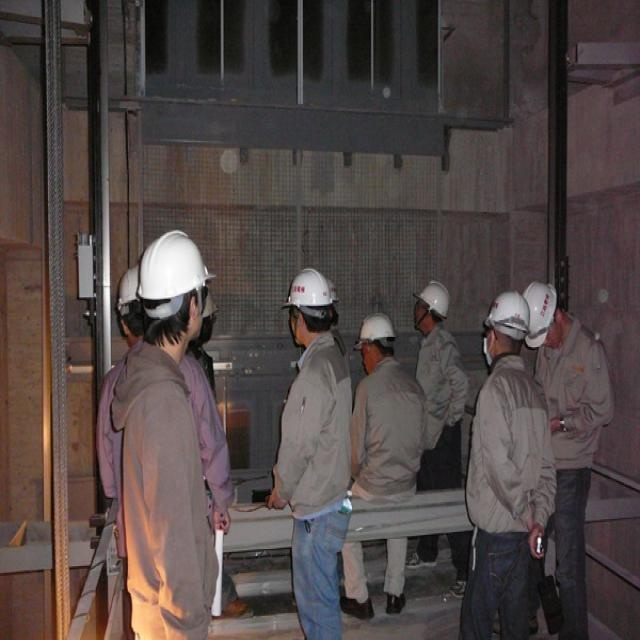Con_Casco: (138, 232, 207, 336), (286, 267, 332, 341)
